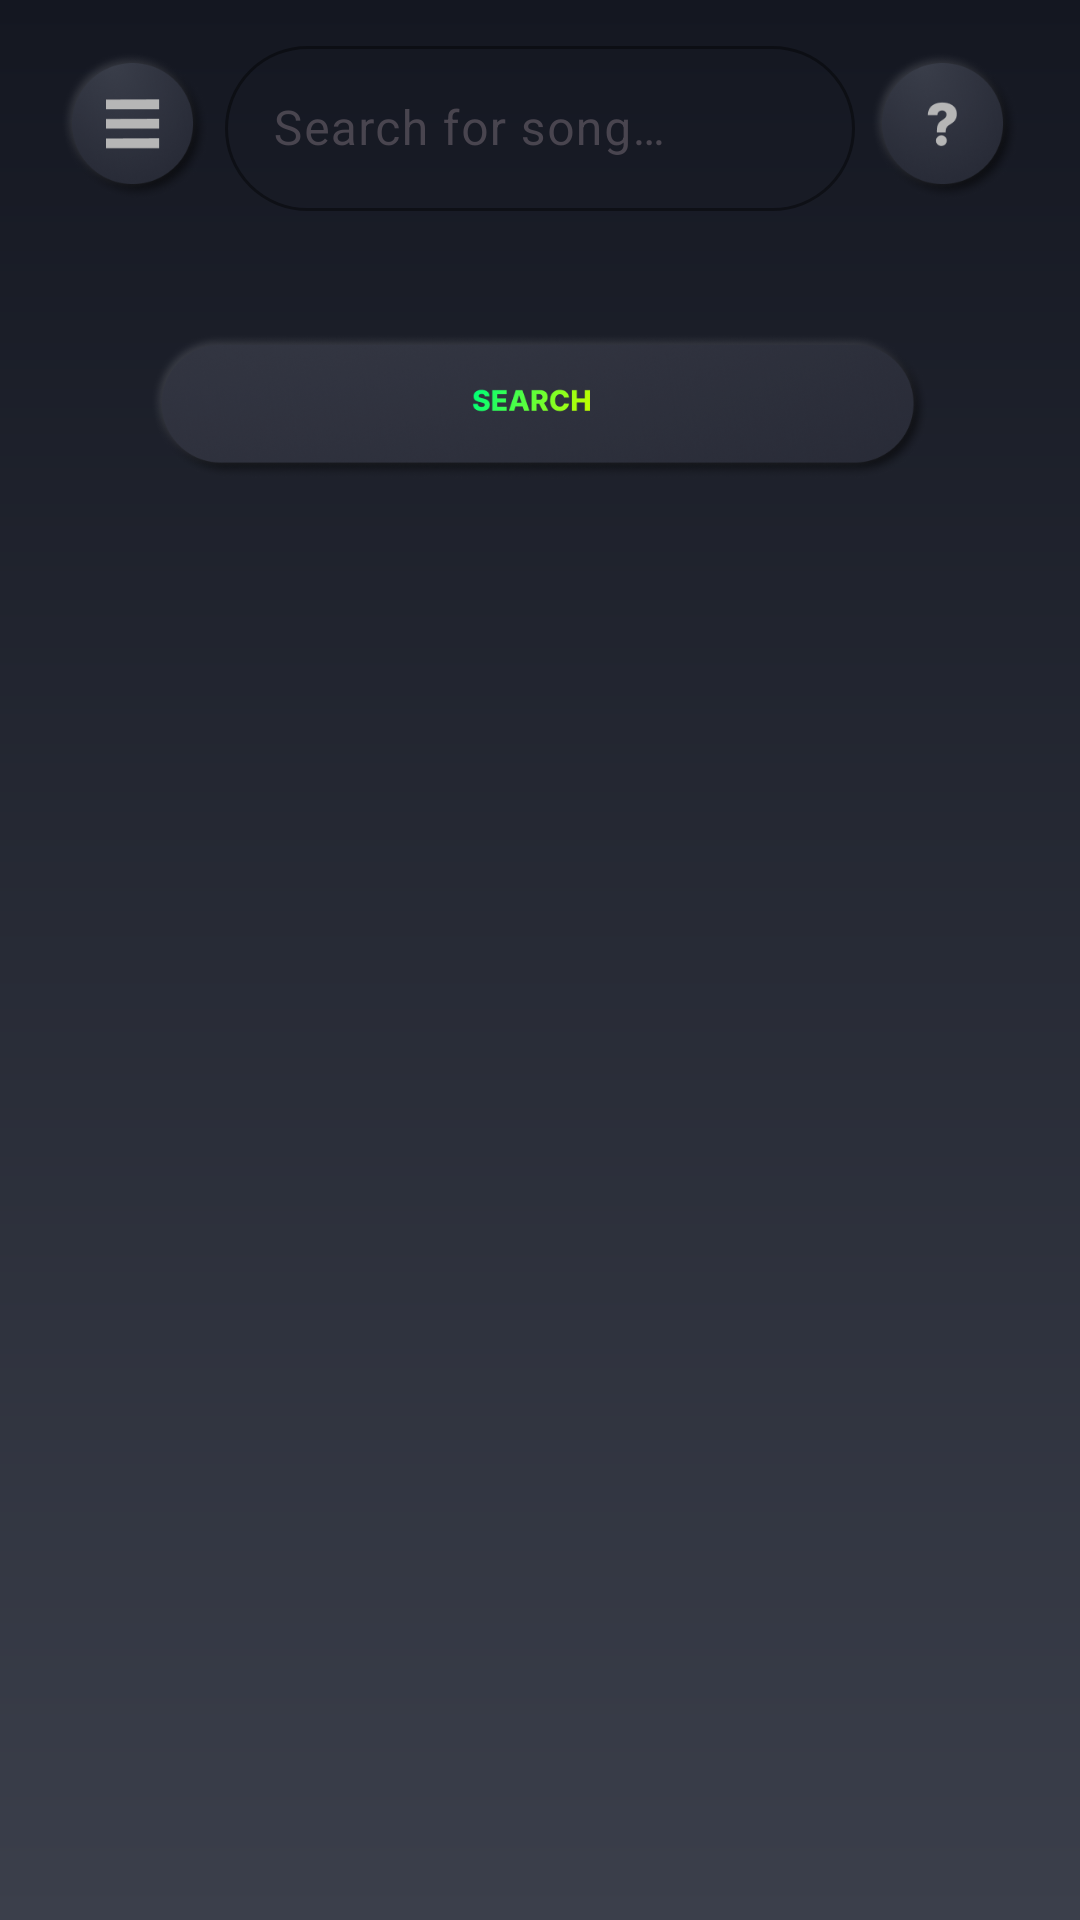

Screen size 1080x1920. Icon name, then its box in pixels as (x1, y1, x2, y2):
help but: (882, 63, 997, 167)
properties but: (71, 63, 188, 167)
